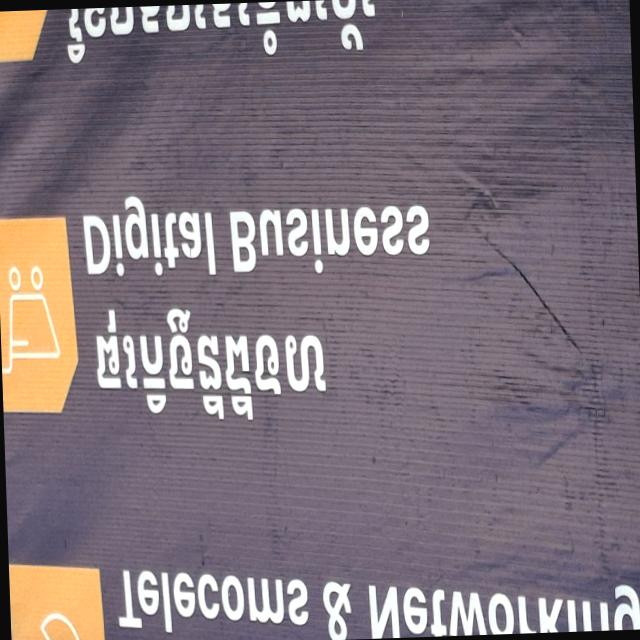Yolov11_80vkh: (78, 287, 360, 431)
